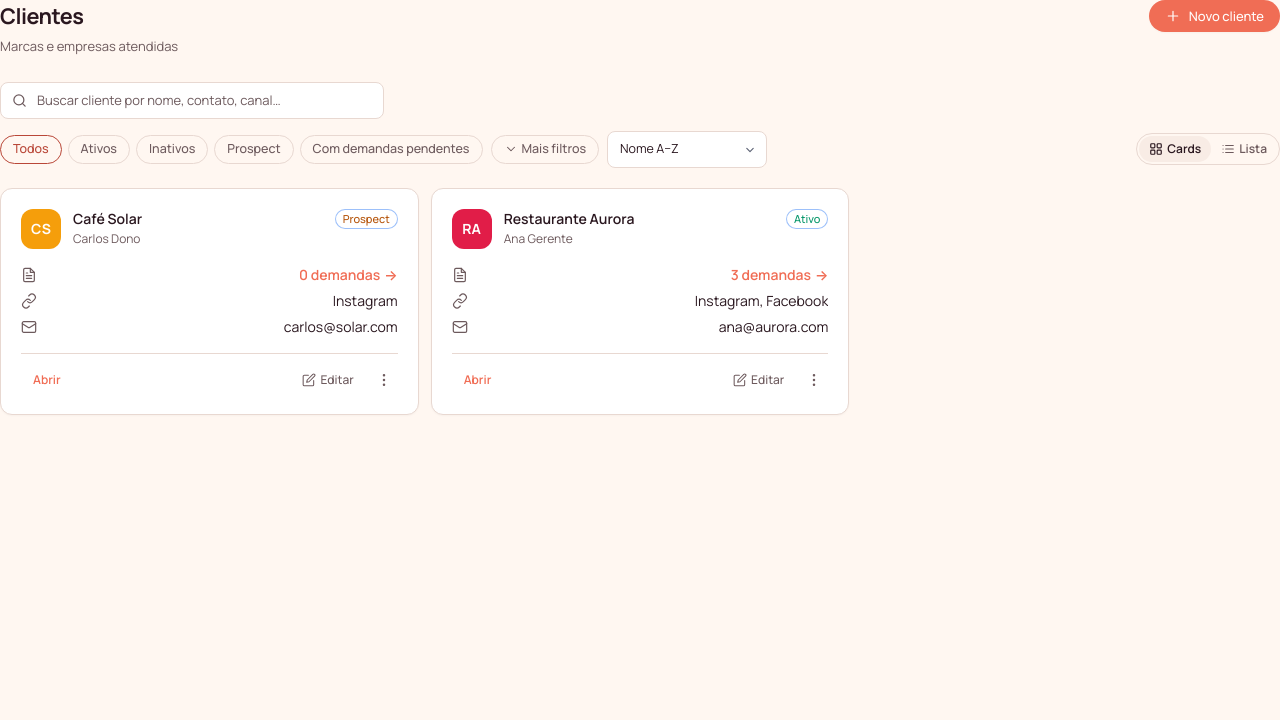
Scenario: Clients Feature — B3 Functional Wiring › surfaces conflict error when updating with duplicate client name
Click the button with aria-label "Editar Restaurante Aurora": coordinates (759, 380) [721,367,796,393]
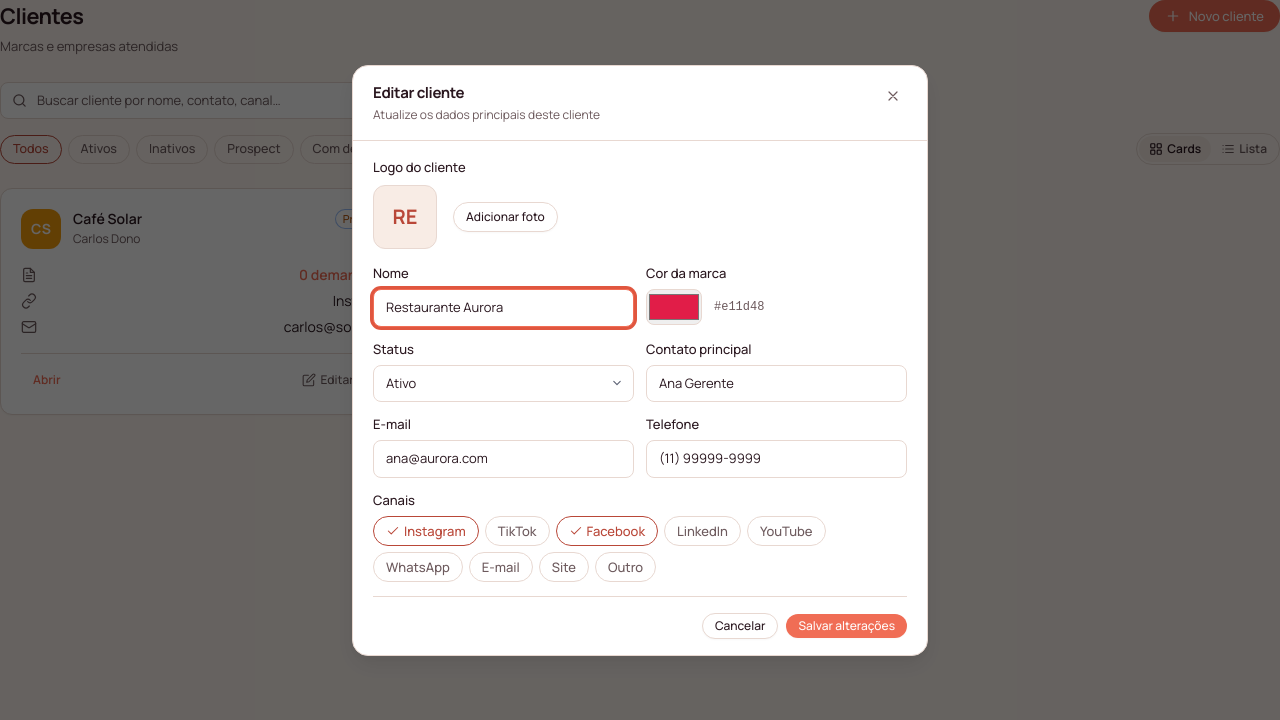
Click the button "Salvar alterações": coordinates (847, 626) [786,614,907,638]
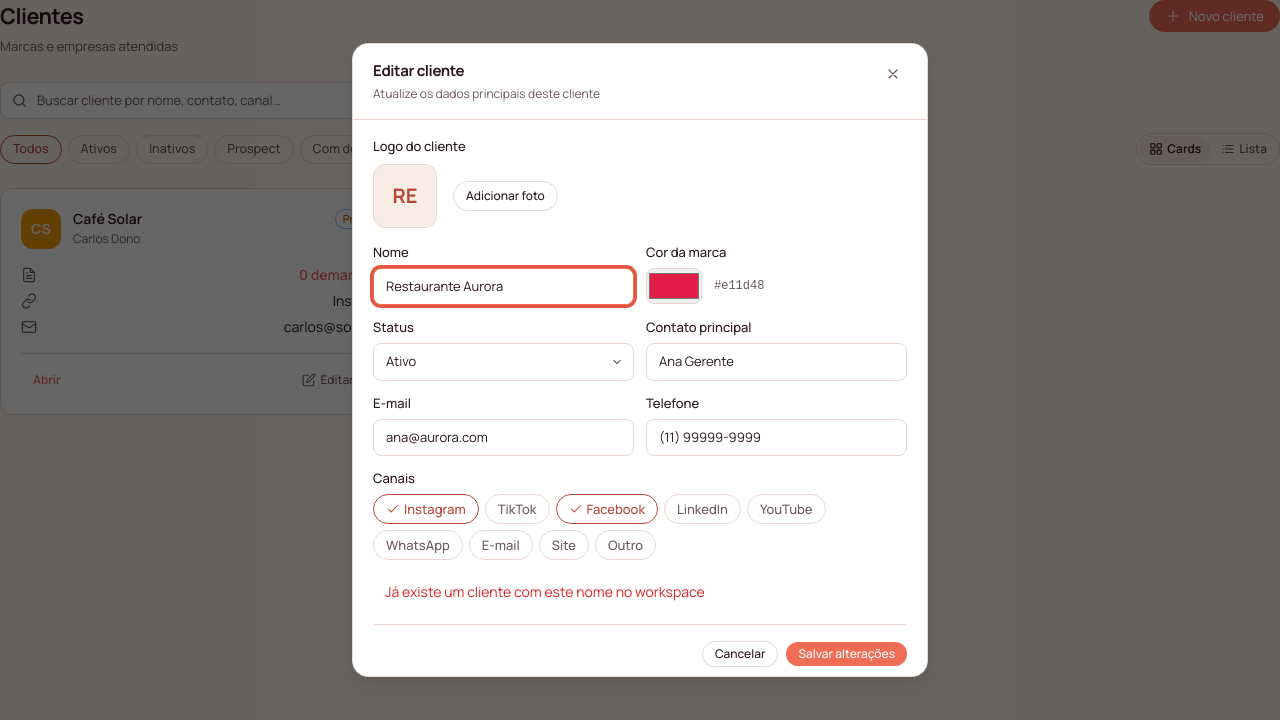
Now the text "Já existe um cliente com este nome no workspace" is shown, box [385,582,705,601]
